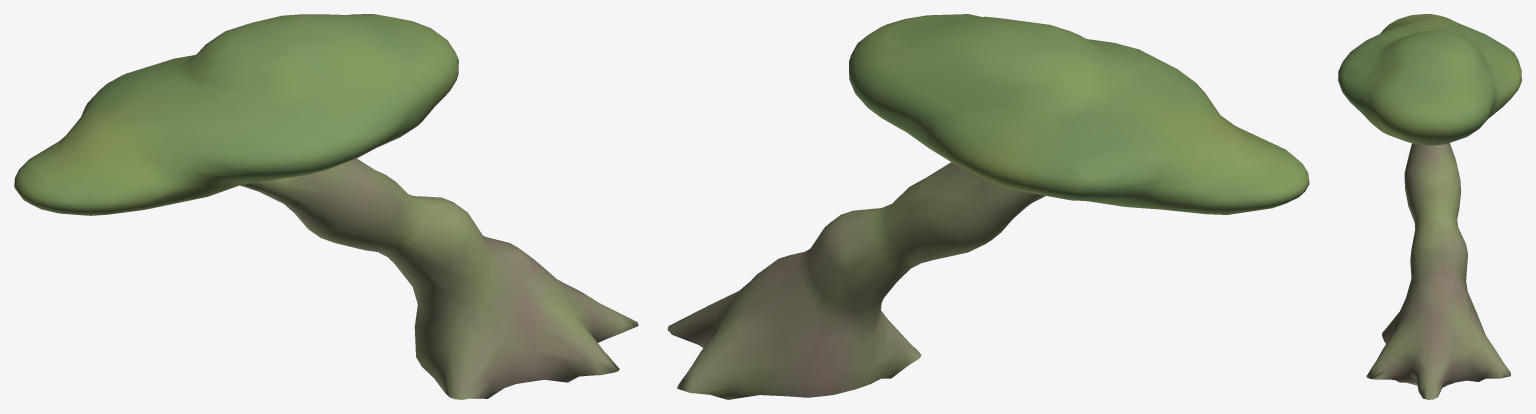
Rendered from old-tree2.glb.
3 views of the same model, side by side, from view 1: azimuth 30°, elevation 25°; view 2: azimuth 150°, elevation 25°; view 3: azimuth 270°, elevation 25° (orthographic). The views are drawn at different scales.
Parts seen in each view (by area): view 1: old_canopy_windswept, body; view 2: old_canopy_windswept, body; view 3: body, old_canopy_windswept.
Part boxes in pixels (x1,y1,x2,y2): old_canopy_windswept: [14, 14, 458, 215]; body: [240, 158, 638, 399]; old_canopy_windswept: [849, 14, 1309, 214]; body: [667, 162, 1045, 399]; body: [1366, 143, 1510, 399]; old_canopy_windswept: [1338, 14, 1521, 145].
Bounding box in the file's own units: 6.36 × 3.79 × 2.49.
